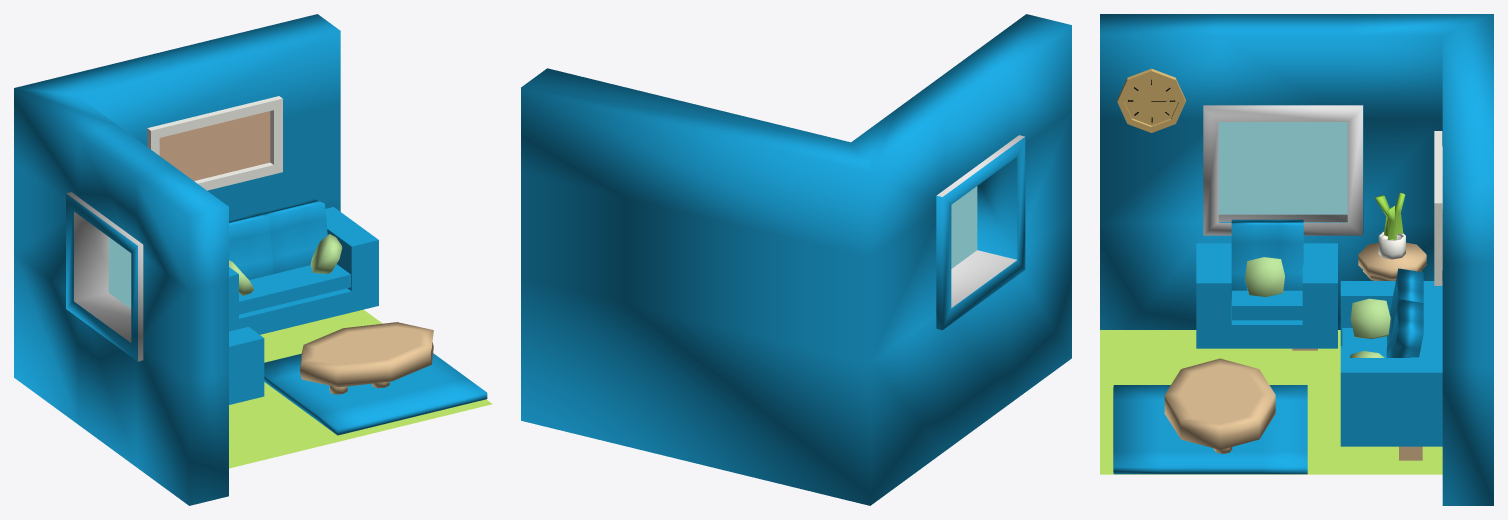
The model's file is room.gltf.
The picture shows the model from 3 angles, left to right: view 1: azimuth 30°, elevation 25°; view 2: azimuth 150°, elevation 25°; view 3: azimuth 270°, elevation 25°; orthographic projection. The views are drawn at different scales.
Parts seen in each view (by area): view 1: walls, couch, floor, frame, rug, table, coush.001, couch.002, coush, pillow.001; view 2: walls; view 3: walls, floor, couch, rug, couch.002, table, coush.002, clock, coush.001, scaun, pillow, pillow.002 (+3 smaller).
Boxes of the visible parts, x1=… form: walls: x1=14, y1=14, x2=340, y2=505; couch: x1=229, y1=207, x2=378, y2=334; floor: x1=229, y1=309, x2=492, y2=468; frame: x1=147, y1=96, x2=282, y2=190; rug: x1=264, y1=353, x2=487, y2=435; table: x1=299, y1=322, x2=433, y2=387; coush.001: x1=258, y1=199, x2=327, y2=273; couch.002: x1=229, y1=326, x2=264, y2=404; coush: x1=229, y1=212, x2=273, y2=279; pillow.001: x1=310, y1=234, x2=342, y2=273; walls: x1=521, y1=14, x2=1071, y2=505; walls: x1=1100, y1=14, x2=1493, y2=505; floor: x1=1100, y1=330, x2=1442, y2=474; couch: x1=1340, y1=281, x2=1442, y2=446; rug: x1=1113, y1=385, x2=1307, y2=474; couch.002: x1=1196, y1=243, x2=1337, y2=348; table: x1=1164, y1=358, x2=1275, y2=449; coush.002: x1=1231, y1=219, x2=1303, y2=290; clock: x1=1117, y1=68, x2=1185, y2=132; coush.001: x1=1387, y1=299, x2=1423, y2=357; scaun: x1=1358, y1=242, x2=1426, y2=279; pillow: x1=1350, y1=298, x2=1390, y2=338; pillow.002: x1=1245, y1=257, x2=1284, y2=296.
Size of the model in its own units: 3.52 by 3.15 by 3.45.
